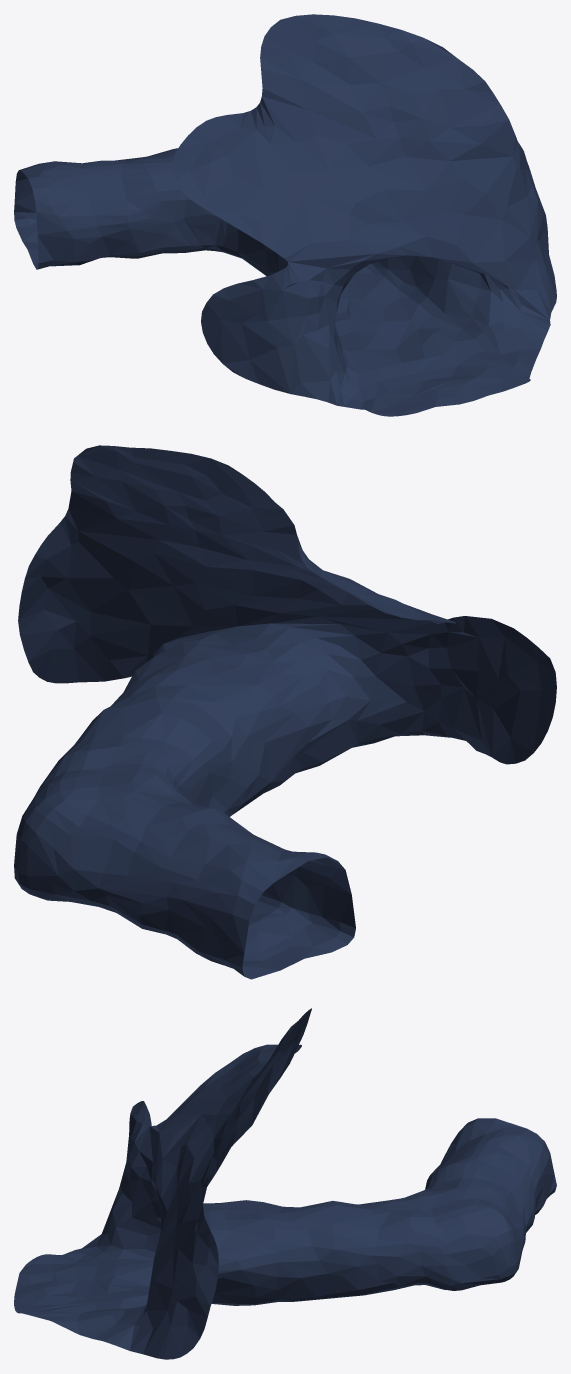
The model's file is mazeEntrance2.fbx.
The picture shows the model from 3 angles, top to bottom: view 1: azimuth 30°, elevation 25°; view 2: azimuth 150°, elevation 25°; view 3: azimuth 270°, elevation 25°; orthographic projection. The views are drawn at different scales.
Parts seen in each view (by area): view 1: Cube.001; view 2: Cube.001; view 3: Cube.001.
Boxes of the visible parts, left/top/right/bottom form: Cube.001: left=14, top=14, right=556, bottom=416; Cube.001: left=14, top=445, right=556, bottom=979; Cube.001: left=14, top=1008, right=556, bottom=1359.
Bounding box in the file's own units: 1215 × 862 × 1566.
